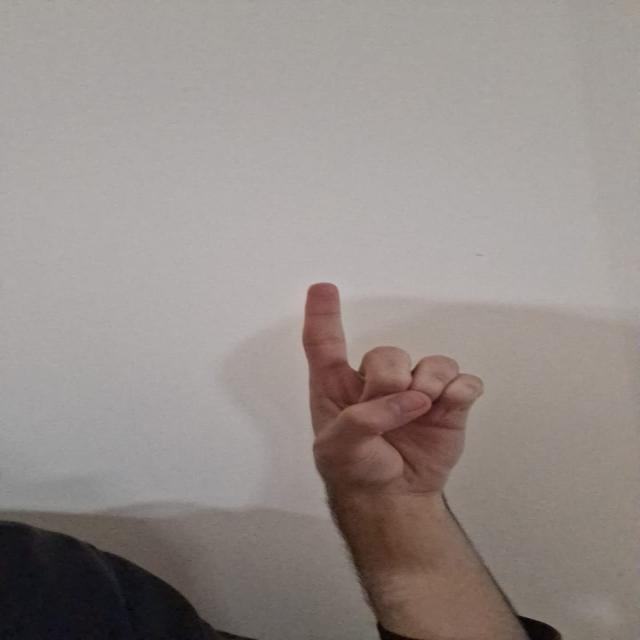D2: (290, 277, 492, 500)
